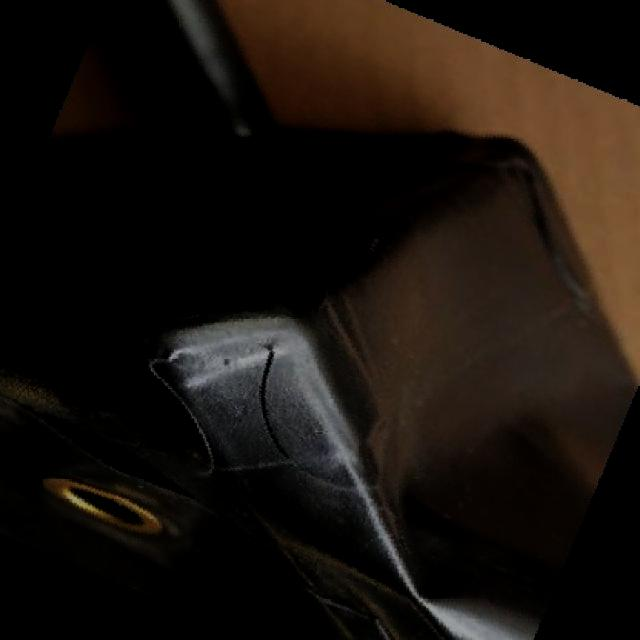crack: (255, 339, 329, 478)
